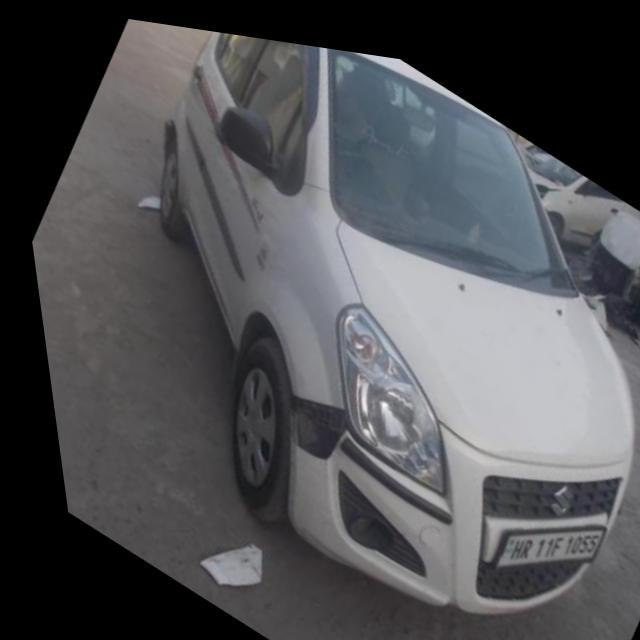dislocated part: (331, 415, 398, 470)
no part: (277, 380, 342, 456)
